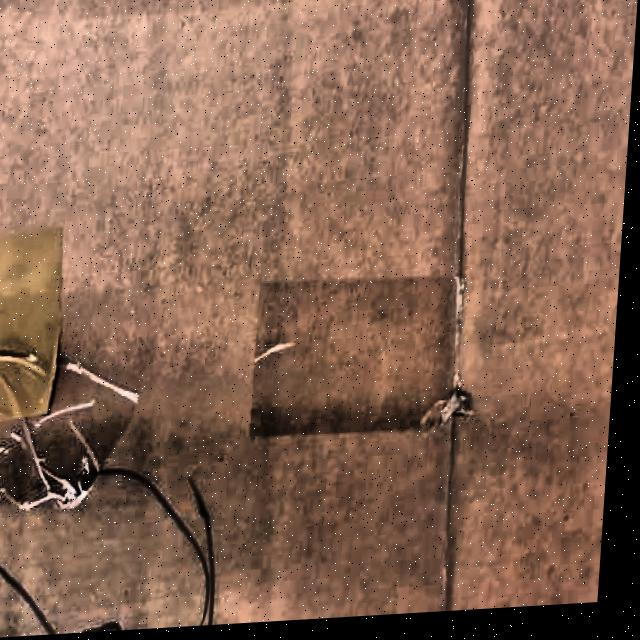cardboard: (0, 222, 70, 433)
